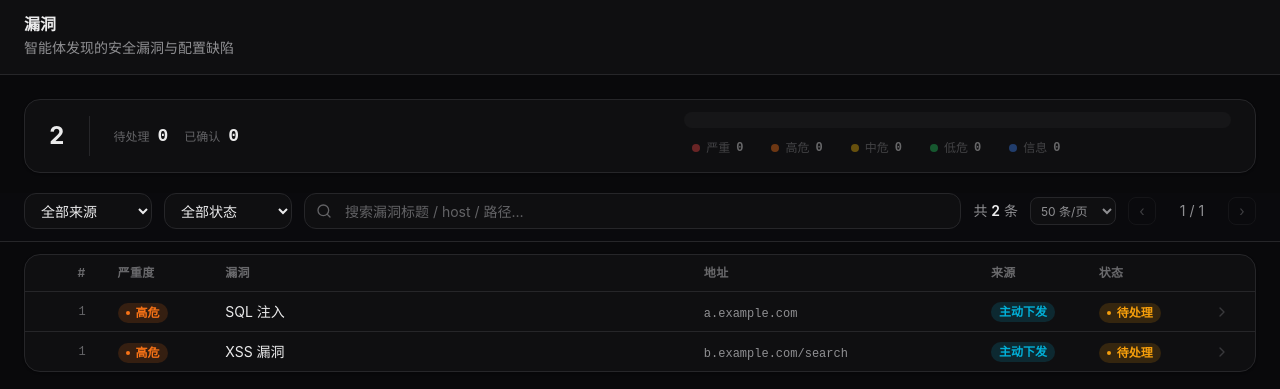
it: FindingsPage › 搜索框按 summary/host/path 模糊过滤（前端叠加，仅作用于当前页）
The width and height of the screenshot is (1280, 389).
Expected: the text "SQL 注入" is shown, top-left (225, 302), bottom-right (285, 322)
Type "xss" into the field with placeholder "搜索漏洞标题 / host / 路径…" at (633, 211), box top-left (304, 193), bottom-right (961, 229)
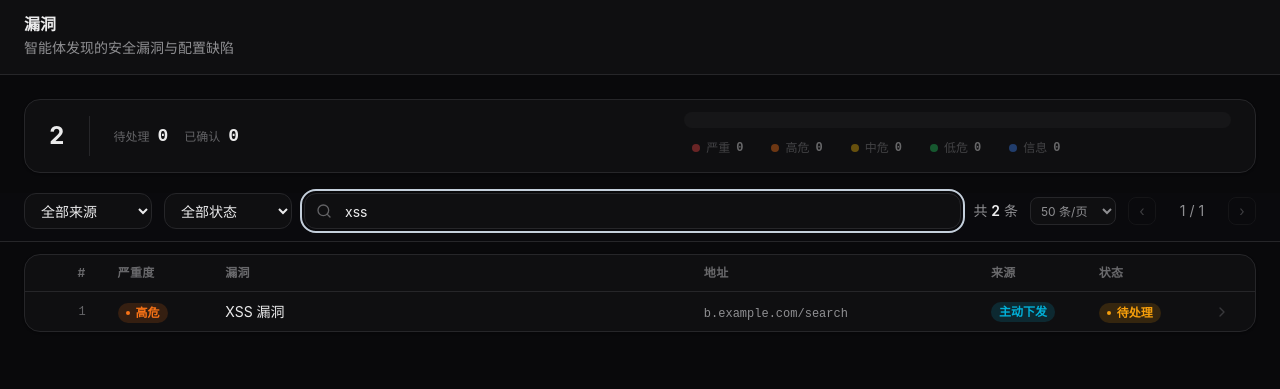
Expected: the text "XSS 漏洞" is shown, top-left (225, 302), bottom-right (285, 322)
Result: the button "SQL 注入" is gone
